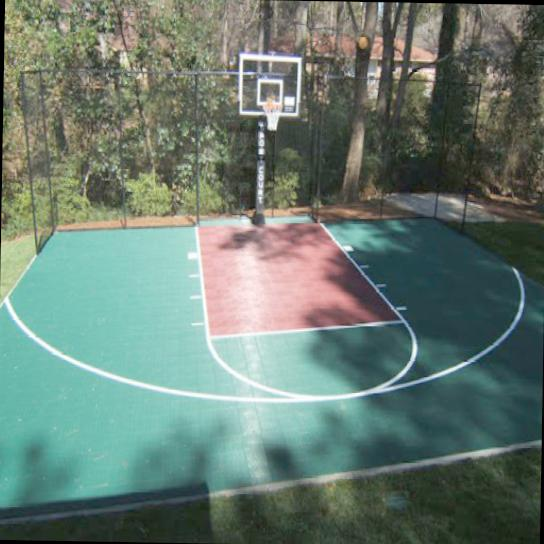basketball-hoop: (261, 102, 282, 130)
